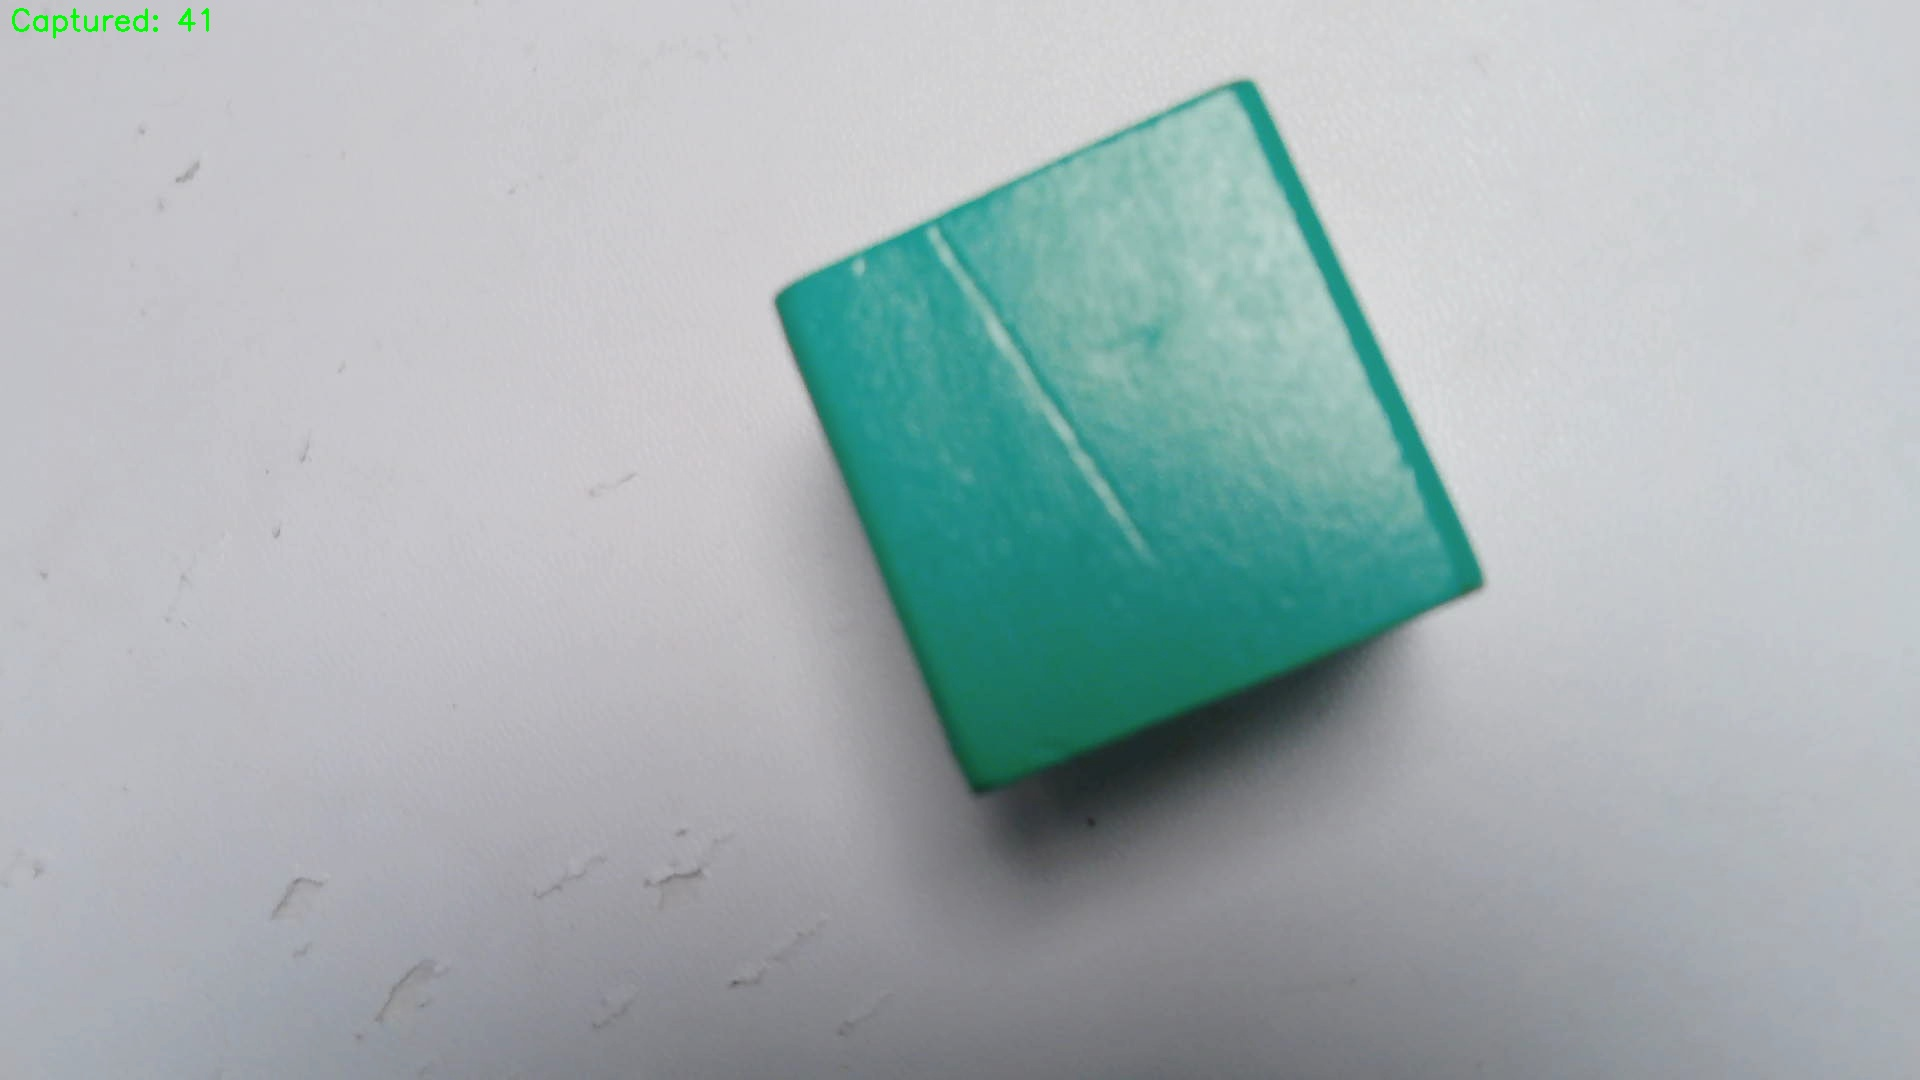green: (769, 80, 1484, 796)
